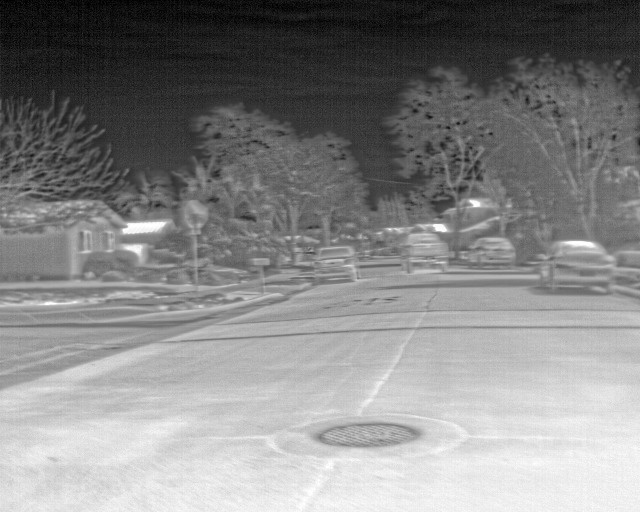vehicle: (536, 241, 615, 291), (397, 232, 449, 274), (310, 242, 360, 282), (469, 236, 515, 273)
